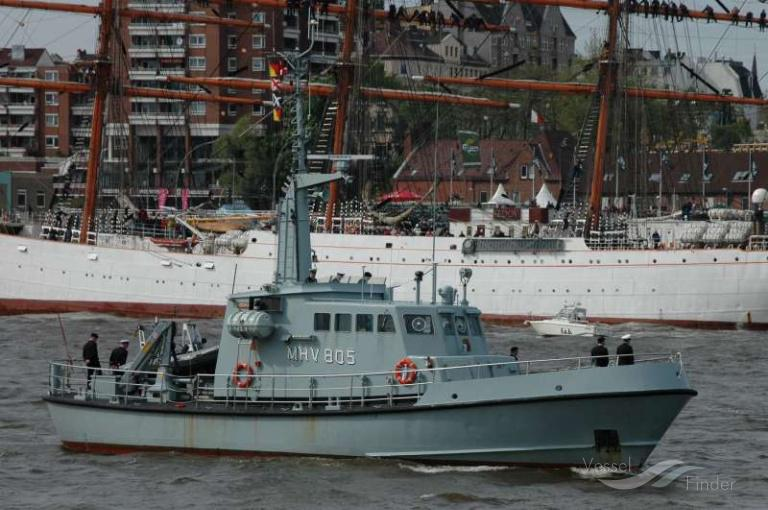OCR: (280, 342, 359, 367)
